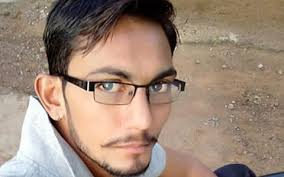Indian_Male: (62, 1, 178, 171)
